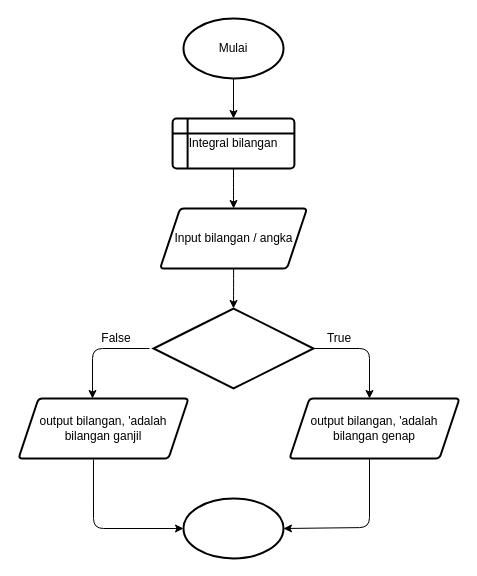
This 477x576 diagram has some shape labels left out. The centre of each missing label's shape, as x and y in pixels:
bilangan mod 2 == 0: the point at 233,348
Selesai: the point at 233,528
